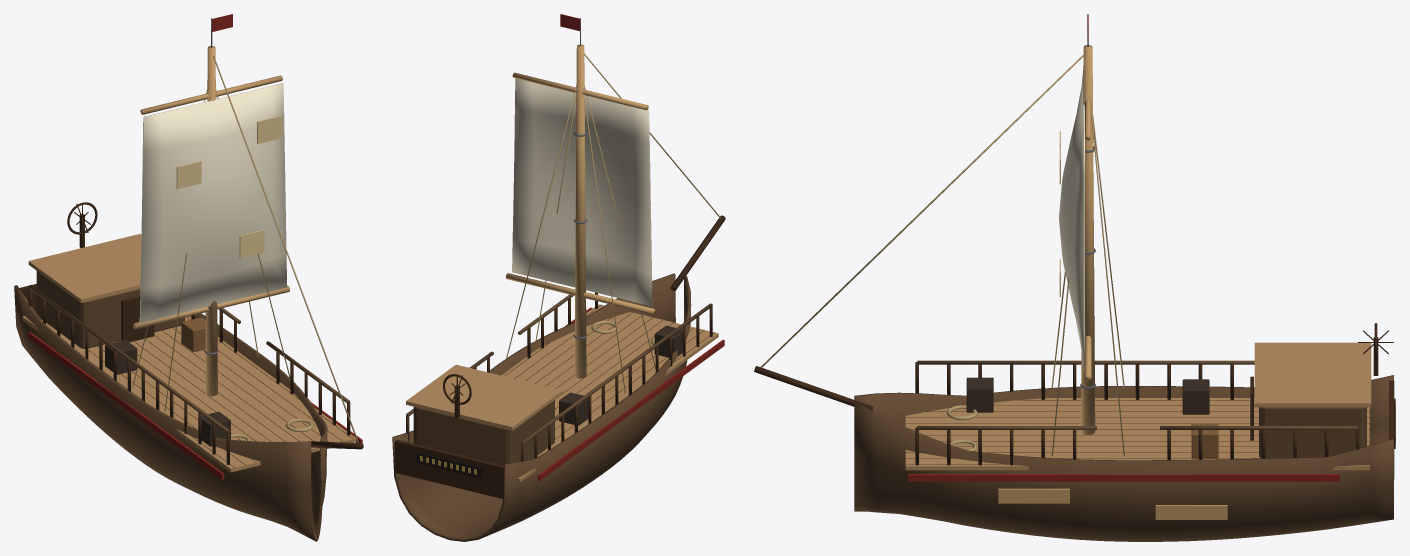
File: seeschwalbe_geflickt.glb
The picture shows the model from 3 angles, left to right: view 1: azimuth 30°, elevation 25°; view 2: azimuth 150°, elevation 25°; view 3: azimuth 270°, elevation 25°; orthographic projection. The views are drawn at different scales.
Parts seen in each view (by area): view 1: rumpf; view 2: rumpf; view 3: rumpf.
Boxes of the visible parts, x1,y1,x2,y2 form: rumpf: (14,14,363,541); rumpf: (392,14,725,541); rumpf: (754,14,1395,541).
Bounding box in the file's own units: 4.4 × 12.7 × 14.27.
